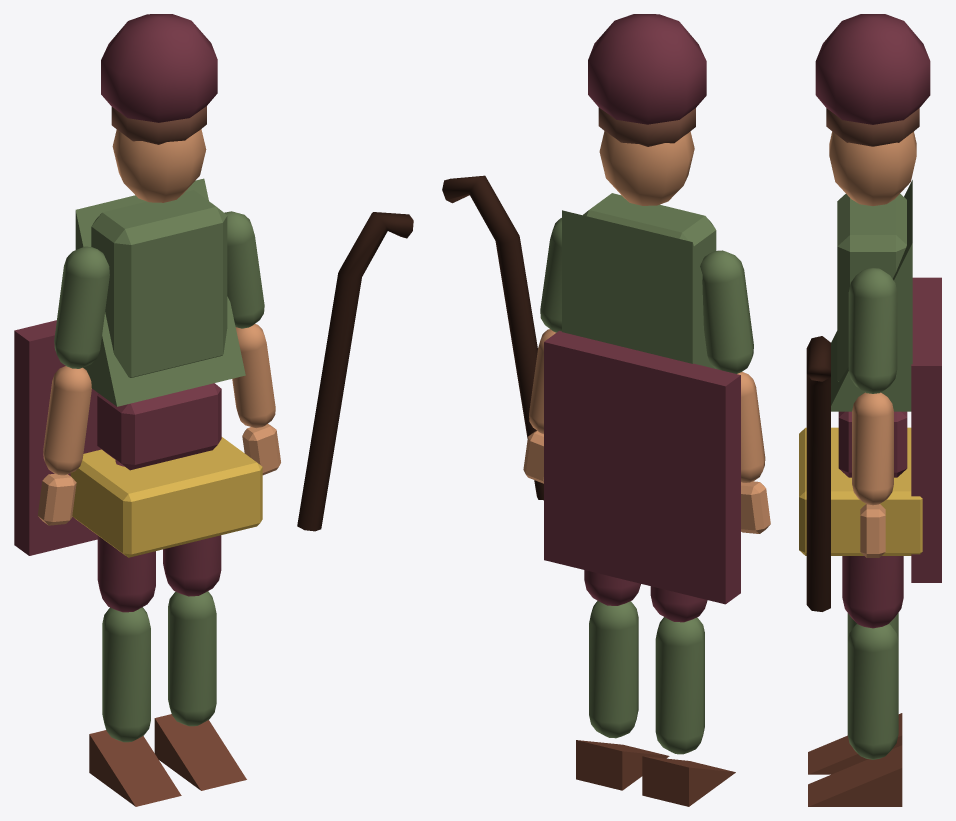
File: adventurer.rustic.glb
3 renders of one model, left to right at view 1: azimuth 30°, elevation 25°; view 2: azimuth 150°, elevation 25°; view 3: azimuth 270°, elevation 25°, orthographic.
Visible parts, largest first — view 1: torso, accessory.waist, accessory.head, accessory.back, accessory.main-hand, pelvis, tunic, shin.right, shin.left, upper-arm.left, head, foot.right (+9 smaller); view 2: accessory.back, tunic, accessory.head, shin.left, shin.right, accessory.main-hand, upper-arm.left, head, torso, foot.left, foot.right, forearm.left (+7 smaller); view 3: accessory.head, accessory.back, accessory.main-hand, accessory.waist, shin.right, torso, upper-arm.right, head, tunic, forearm.right, thigh.right, foot.right (+4 smaller).
Part boxes in pixels (box(x1,y1,x2,y2)): torso: box(91, 190, 227, 377); accessory.waist: box(70, 437, 262, 557); accessory.head: box(101, 14, 217, 122); accessory.back: box(14, 320, 101, 555); accessory.main-hand: box(297, 212, 413, 531); pelvis: box(97, 383, 221, 470); tunic: box(75, 178, 245, 406); shin.right: box(168, 591, 216, 726); shin.left: box(102, 607, 150, 742); upper-arm.left: box(54, 246, 109, 368); head: box(112, 129, 206, 202); foot.right: box(154, 714, 246, 790); accessory.back: box(544, 331, 740, 604); tunic: box(562, 210, 714, 368); accessory.head: box(588, 14, 706, 124); shin.left: box(655, 617, 704, 754); shin.right: box(589, 600, 638, 738); accessory.main-hand: box(442, 175, 543, 500); upper-arm.left: box(700, 250, 753, 373); head: box(599, 131, 694, 205); torso: box(583, 193, 716, 265); foot.left: box(642, 756, 735, 806); foot.right: box(576, 740, 669, 790); forearm.left: box(737, 372, 765, 482); accessory.head: box(815, 14, 930, 124); accessory.back: box(911, 277, 941, 582); accessory.main-hand: box(806, 336, 830, 611); accessory.waist: box(799, 427, 922, 555); shin.right: box(847, 624, 898, 759); torso: box(837, 193, 906, 381); upper-arm.right: box(848, 267, 897, 393); head: box(829, 131, 916, 205); tunic: box(831, 180, 912, 411); forearm.right: box(852, 392, 893, 505); thigh.right: box(842, 556, 903, 628); foot.right: box(808, 745, 902, 806).
Bounding box in the file's own units: 1.57 × 3.29 × 0.56.
